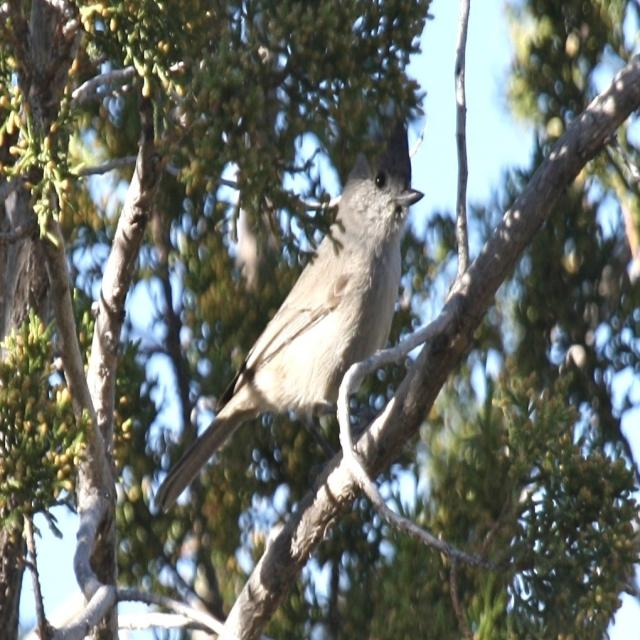bird: (162, 114, 424, 496)
